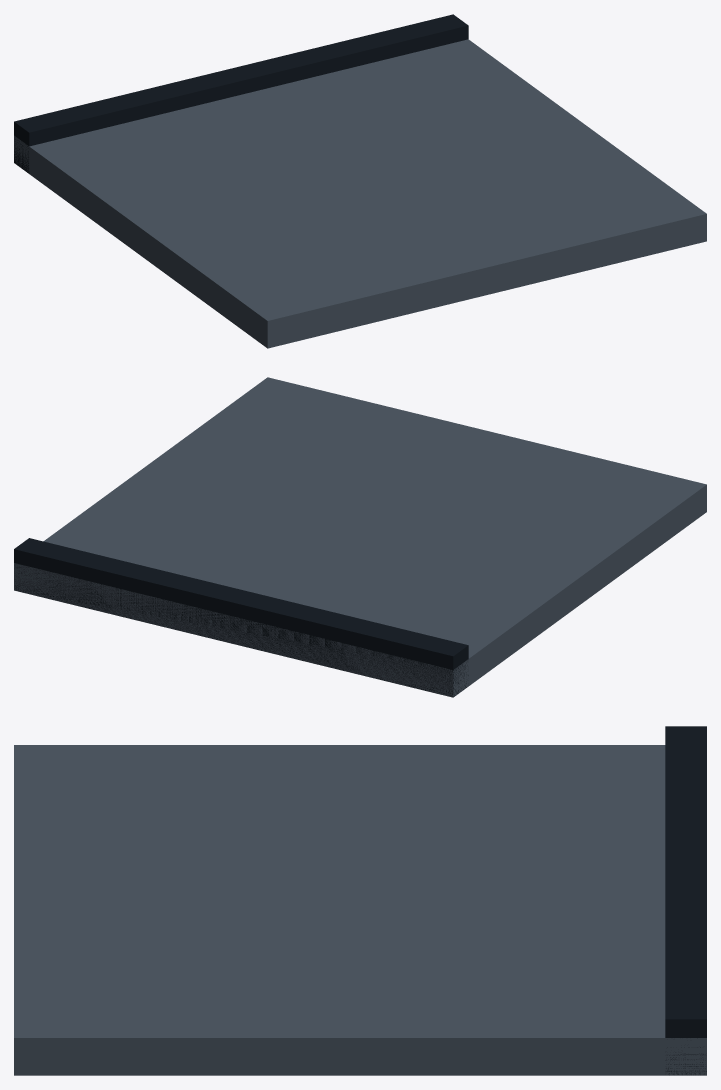
File: np_kms_03_sol_bord.glb
3 renders of one model, top to bottom at view 1: azimuth 30°, elevation 25°; view 2: azimuth 150°, elevation 25°; view 3: azimuth 270°, elevation 25°, orthographic. The views are drawn at different scales.
Parts seen in each view (by area): view 1: Dalle, Bordure; view 2: Dalle, Bordure; view 3: Dalle, Bordure.
Boxes of the visible parts, x1=… form: Dalle: x1=14, y1=39, x2=706, y2=348; Bordure: x1=14, y1=14, x2=468, y2=173; Dalle: x1=14, y1=377, x2=706, y2=697; Bordure: x1=14, y1=538, x2=468, y2=696; Dalle: x1=14, y1=745, x2=706, y2=1075; Bordure: x1=665, y1=726, x2=706, y2=1075.
Bounding box in the file's own units: 2 × 0.18 × 2.
